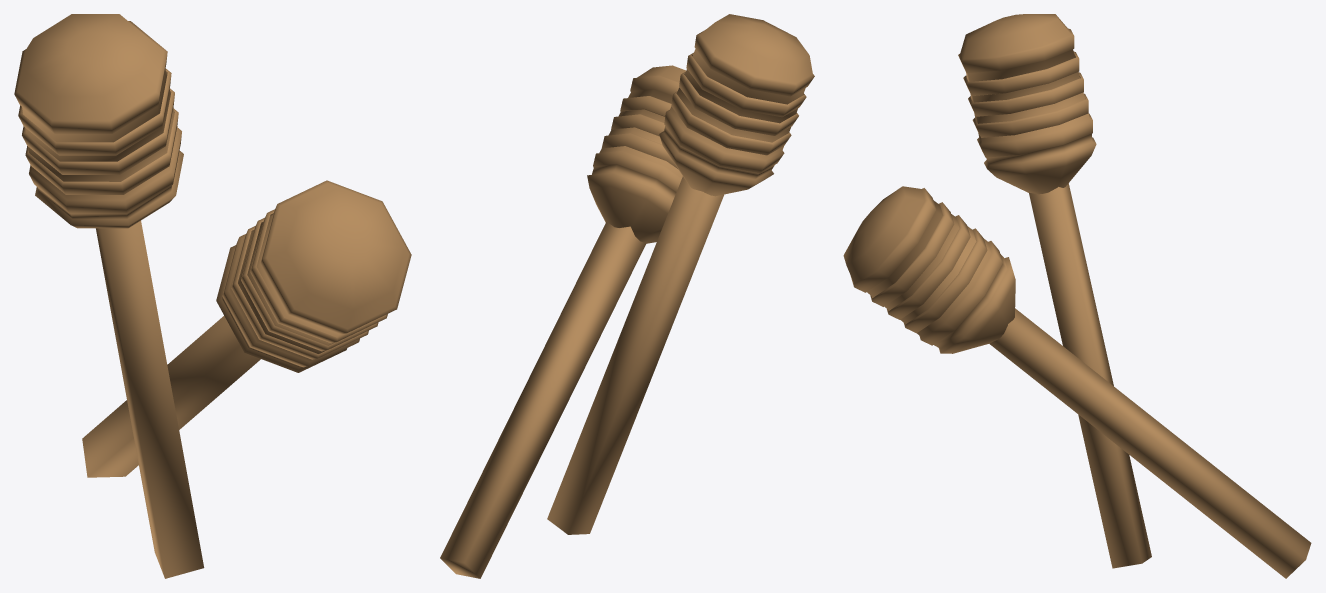
File: Wand Meracas.fbx
The picture shows the model from 3 angles, left to right: view 1: azimuth 30°, elevation 25°; view 2: azimuth 150°, elevation 25°; view 3: azimuth 270°, elevation 25°; orthographic projection. The views are drawn at different scales.
Visible parts, largest first — view 1: Wonds; view 2: Wonds; view 3: Wonds.
Boxes of the visible parts, box(x1,y1,x2,y2) form: Wonds: box(14, 14, 411, 578); Wonds: box(440, 14, 814, 578); Wonds: box(843, 14, 1311, 578).
Bounding box in the file's own units: 29.08 × 58.12 × 49.9.
